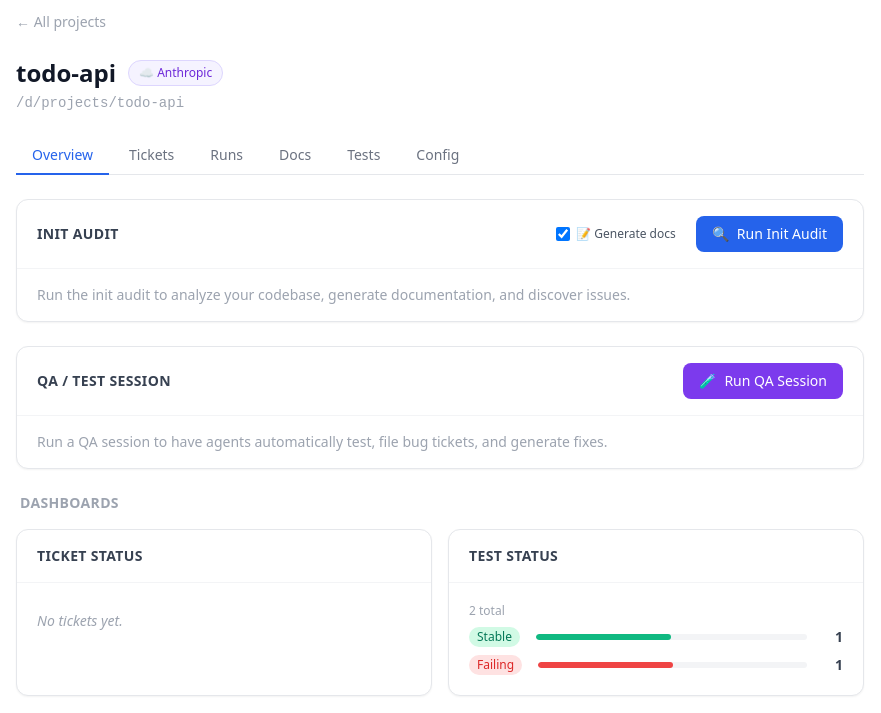
Test case: ProjectDetailPage › filters Tests tab to passing only
The image size is (881, 713).
Click the button "Tests" at x=364, y=156, box [331, 137, 396, 175]
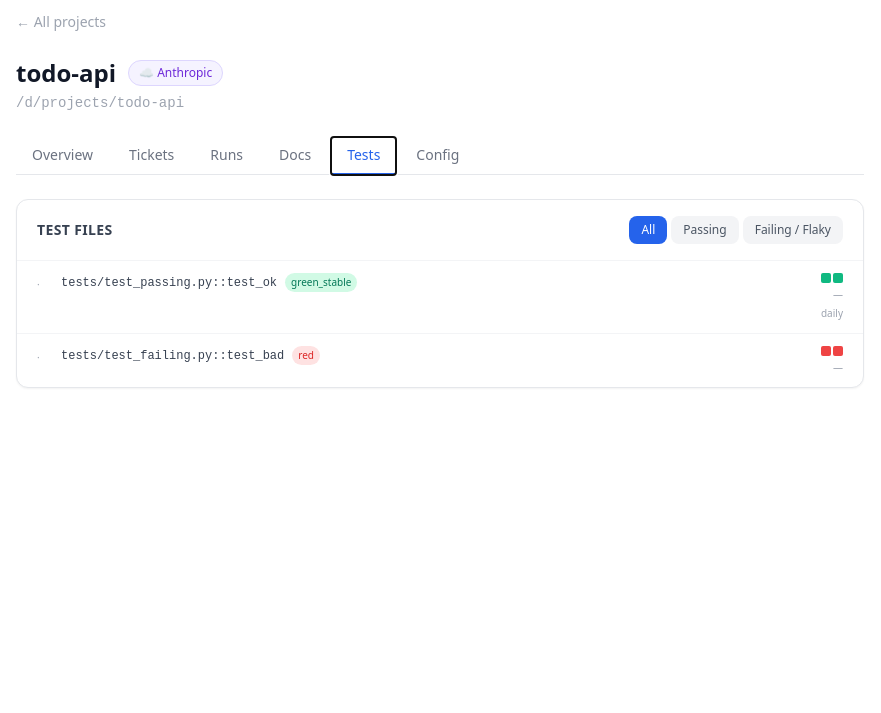
Expected: the text "tests/test_passing.py::test_ok" is shown, [61, 274, 277, 290]
Expected: the text "tests/test_failing.py::test_bad" is shown, [61, 348, 284, 364]
Click the button "Passing" at x=705, y=230, box [671, 216, 739, 244]
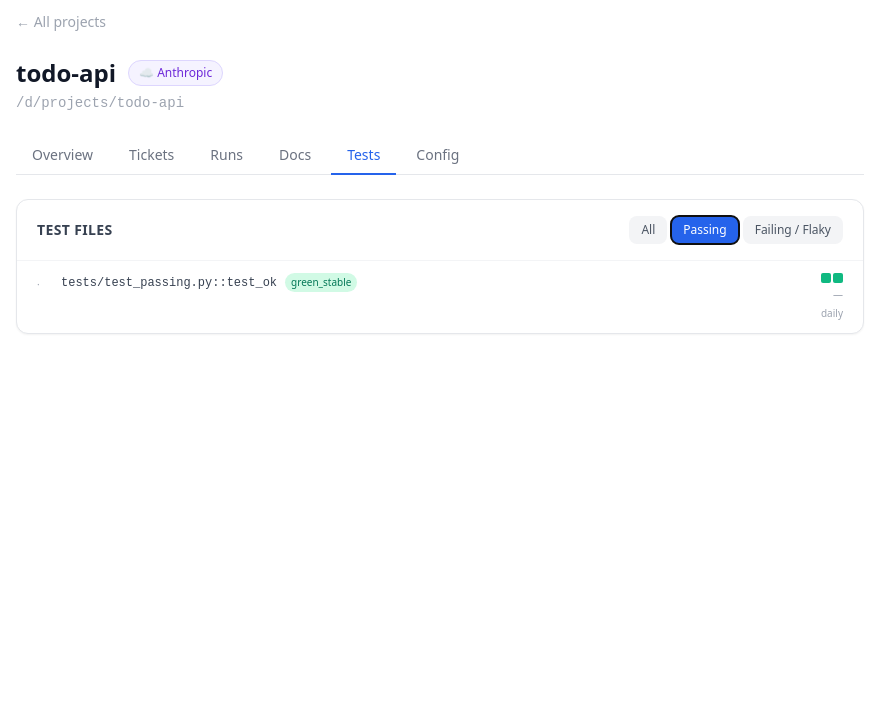
Expected: the text "tests/test_passing.py::test_ok" is shown, [61, 274, 277, 290]
Expected: the text "test_failing" is gone
